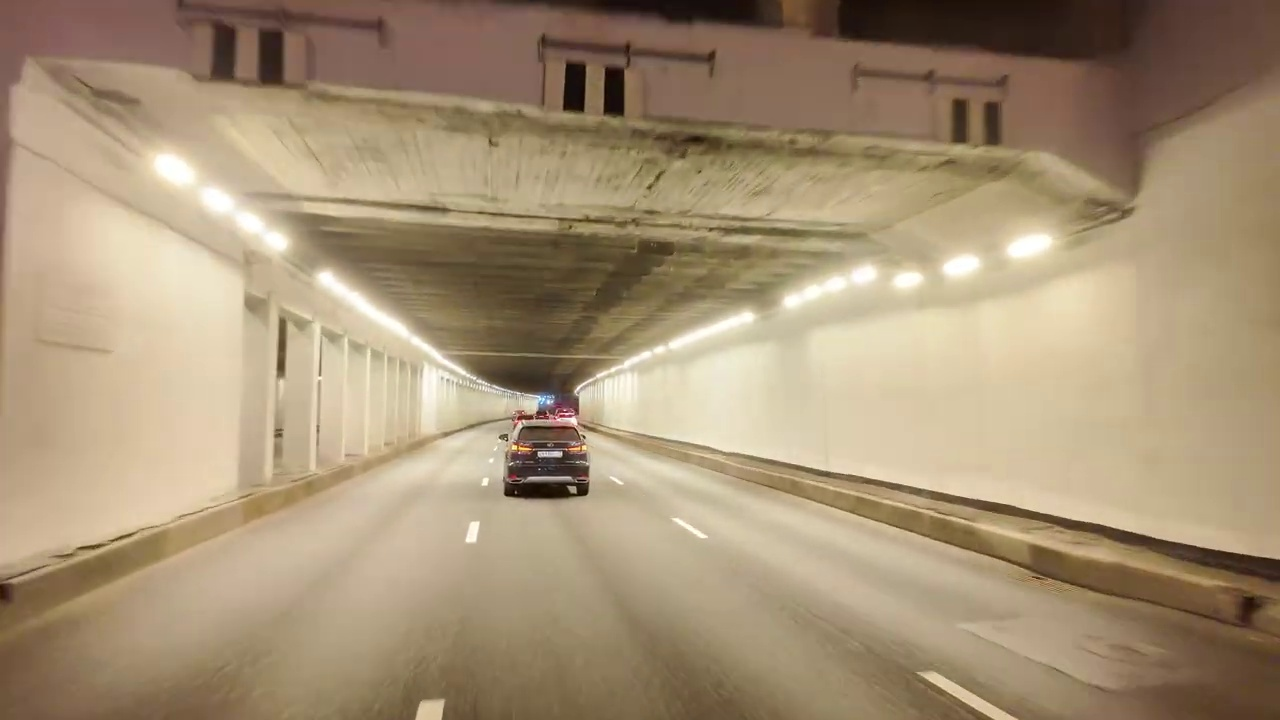acesa: (313, 267, 366, 316), (146, 149, 198, 195), (1004, 228, 1056, 269), (941, 249, 984, 287)
